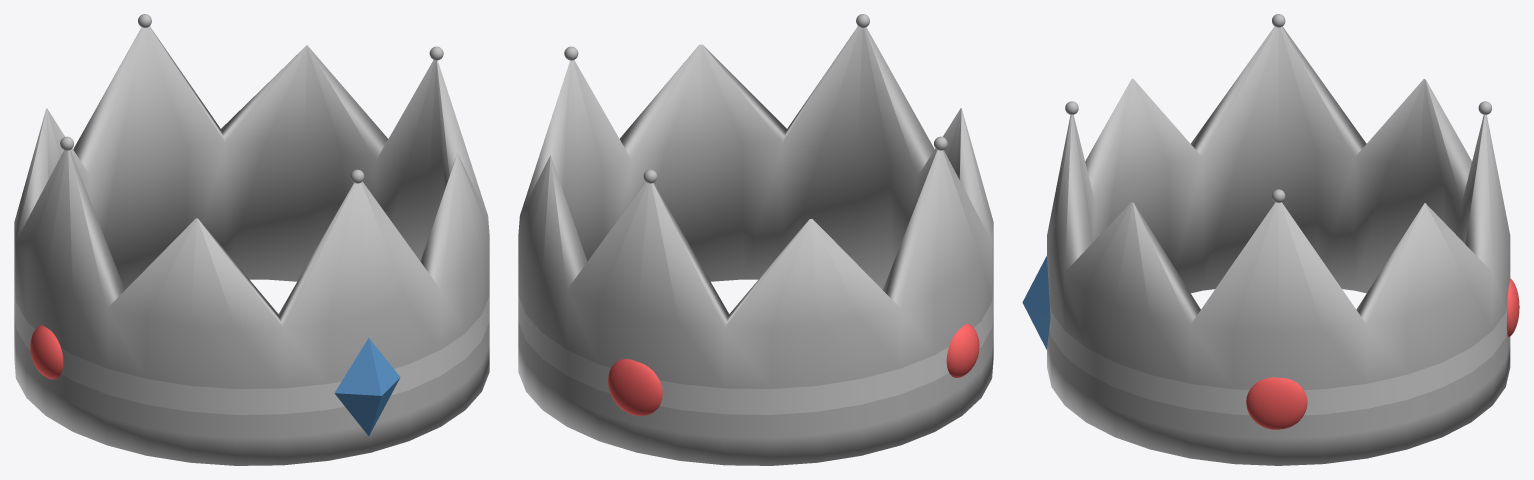
The model's file is crown_silber.fbx.
3 renders of one model, left to right at view 1: azimuth 30°, elevation 25°; view 2: azimuth 150°, elevation 25°; view 3: azimuth 270°, elevation 25°, orthographic. The views are drawn at different scales.
Visible parts, largest first — view 1: 立方体.003; view 2: 立方体.003; view 3: 立方体.003.
Part boxes in pixels (bbox=[...]): 立方体.003: bbox=[14, 14, 489, 465]; 立方体.003: bbox=[518, 14, 993, 465]; 立方体.003: bbox=[1022, 14, 1519, 465].
Size of the model in its own units: 144 by 140 by 84.68.
